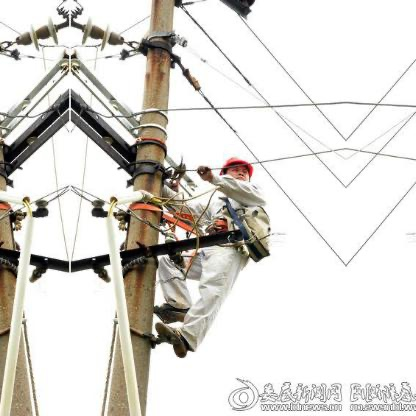Safety Helmet: (216, 155, 261, 193)
